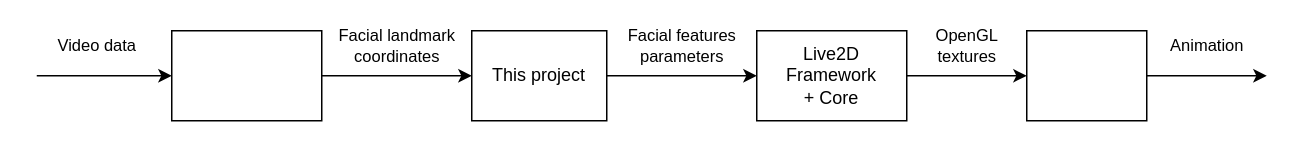
This 1305x147 diagram has some shape labels left out. Here are the shapes that lost their labels. From the top down, the box of each, then its label:
(170, 29, 322, 121): OpenSeeFace
(1025, 29, 1147, 121): OpenGL
